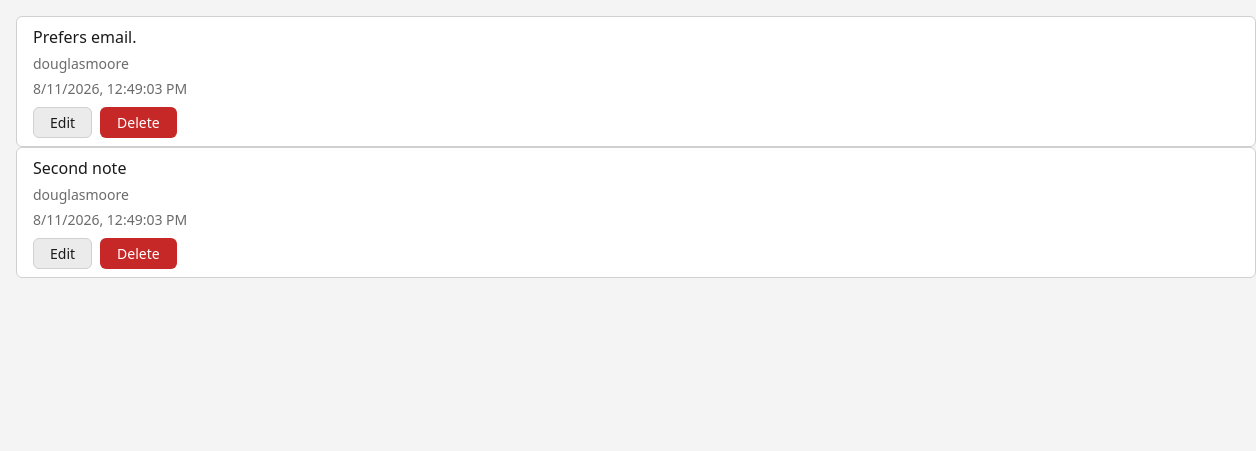
NoteItem: entering edit mode › keeps the edit boxes of two notes apart
This screenshot has width=1256, height=451.
What coordinates should you click on to do the following:
click the button "Edit" below "Second note"
I would click on:
 (63, 254)
Its box is [33,238,92,269].
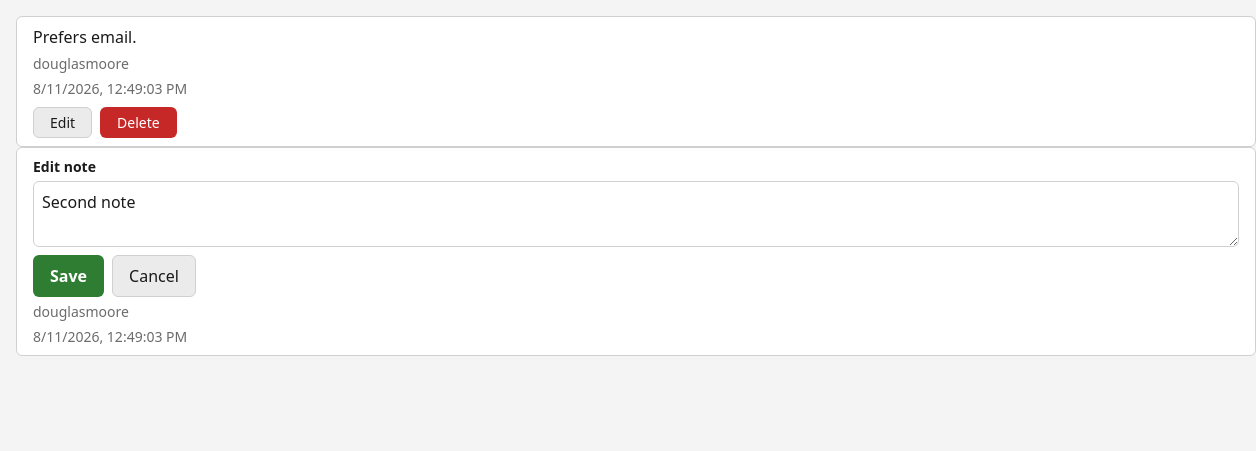
What coordinates should you click on to do the following:
click the button "Edit"
I would click on:
 (63, 122)
Its box is [33,107,92,138].
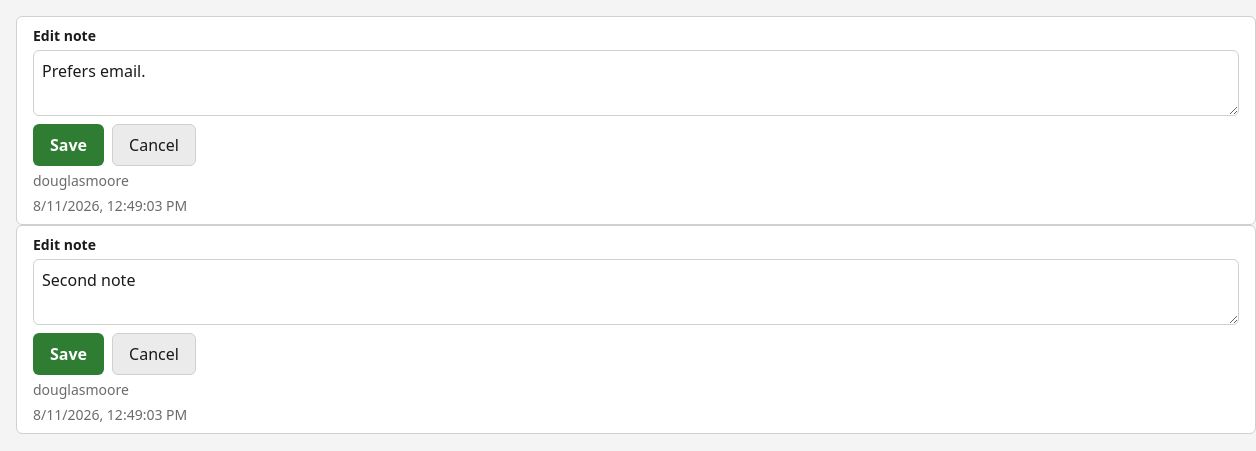
expect the 2nd text box labelled "Edit note" holds "Second note": met, box [33,259,1239,325]
expect the 1st text box labelled "Edit note" holds "Prefers email.": met, box [33,50,1239,116]
